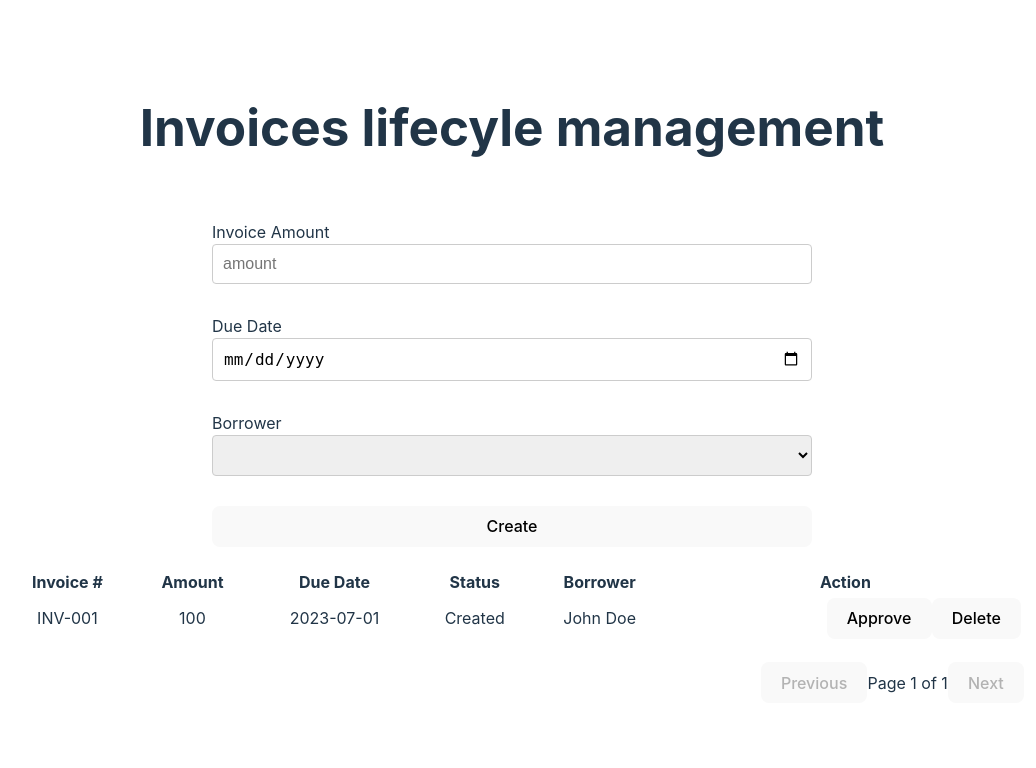
Test case: Simple working test › should delete an invoice on "Delete" button click
Click the button "Delete" at (976,618), box [932,598,1021,639]
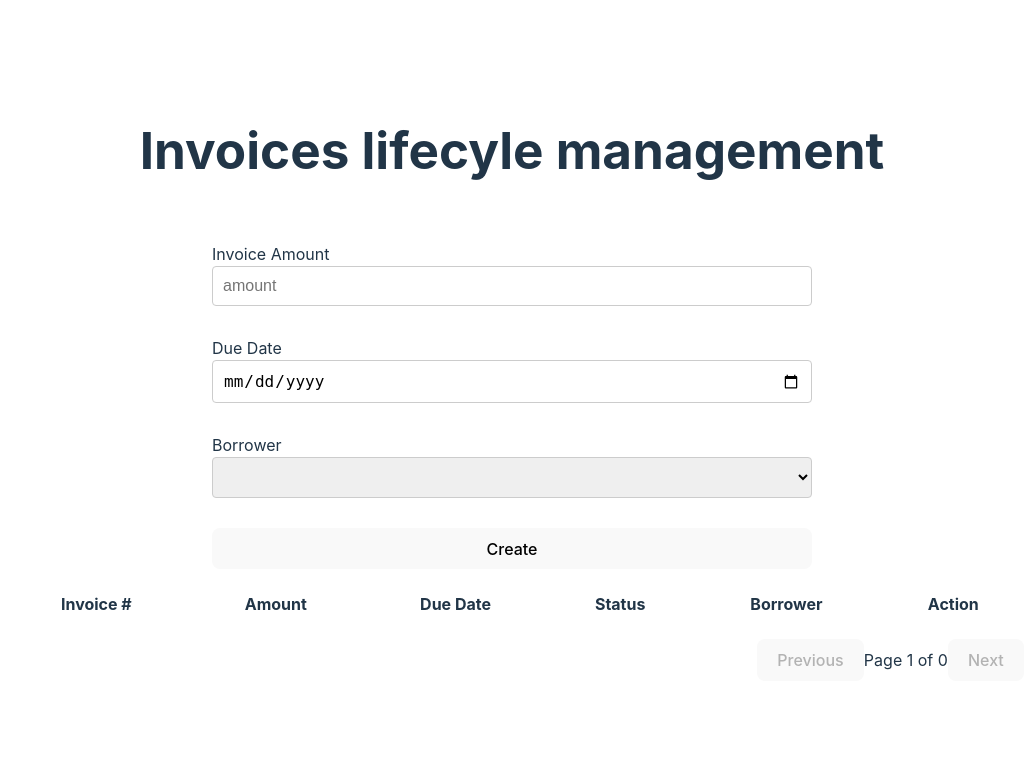
Expected: the text "INV-001" is gone
